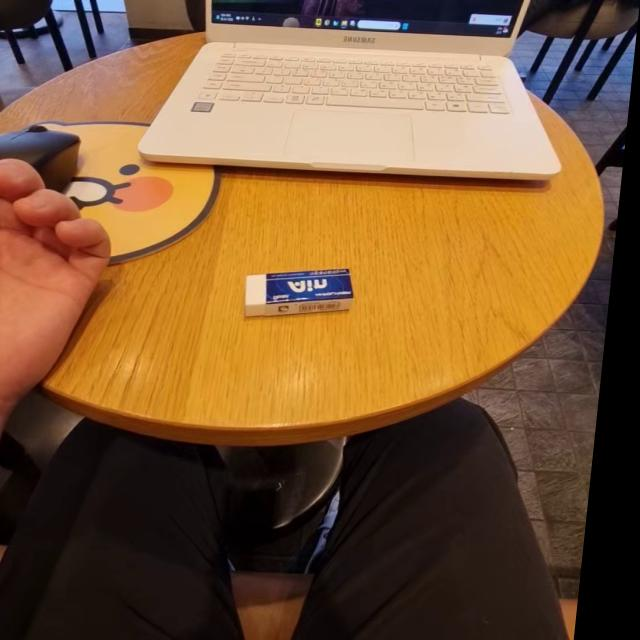eraser: (223, 260, 378, 334)
hand: (0, 171, 125, 403)
mouse: (0, 123, 80, 216)
